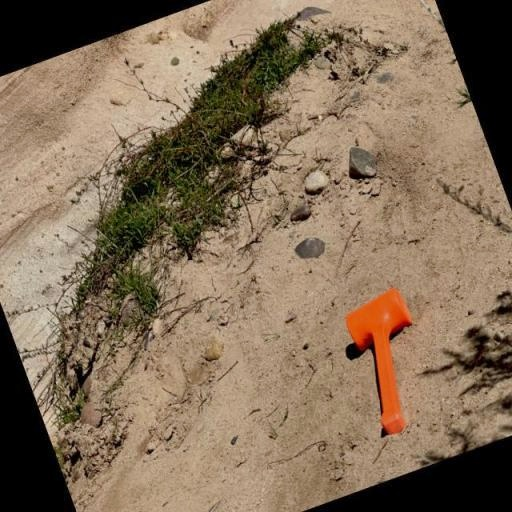mallet: (339, 285, 447, 438)
